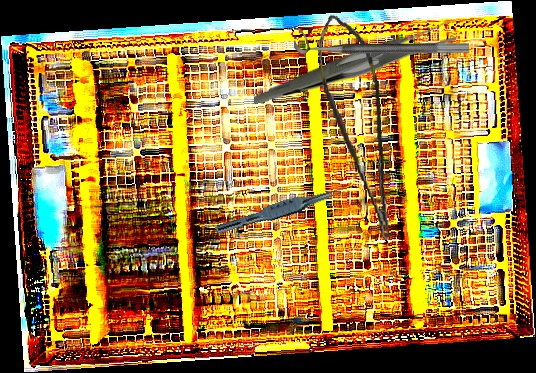Dressing Forceps: (252, 21, 457, 103)
Fixation Ring: (294, 28, 469, 54)
Micro Scissor: (311, 10, 399, 246)
Tissue Forceps: (214, 179, 347, 242)
